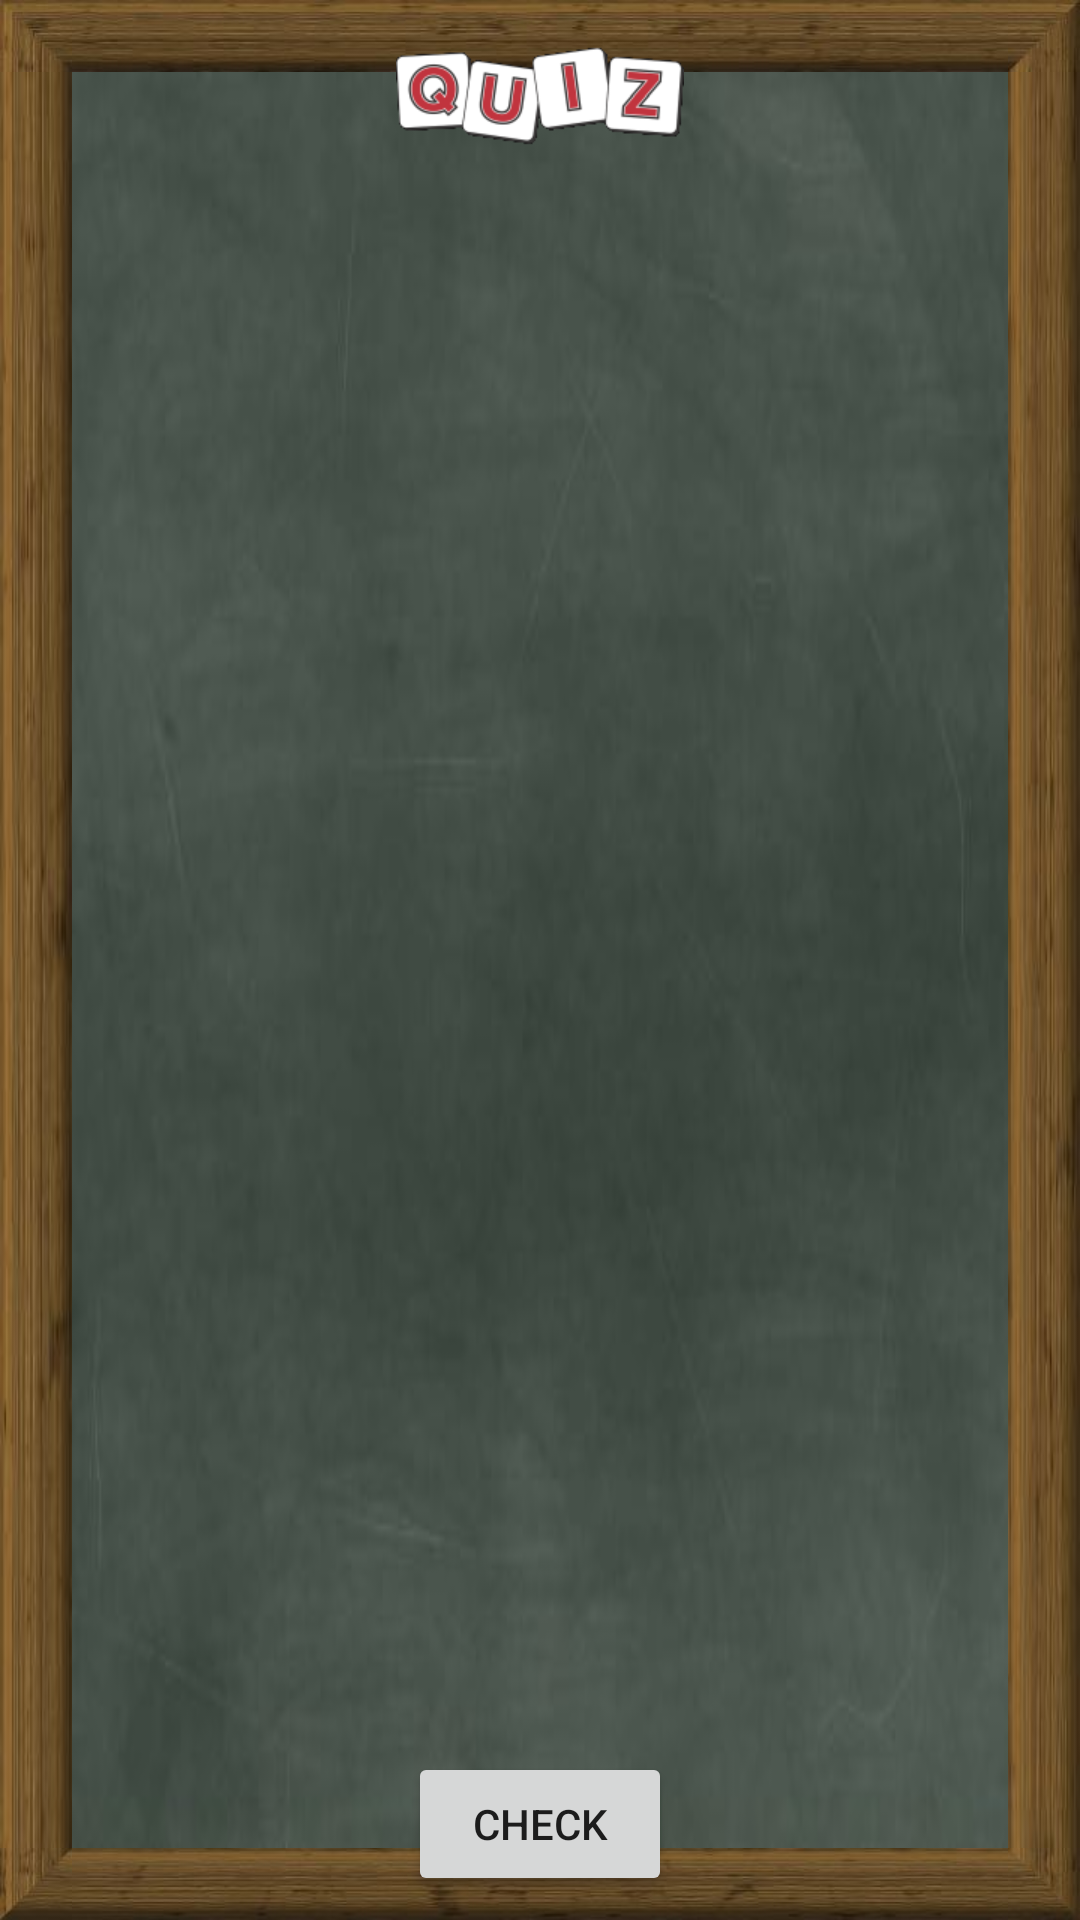

Screen size 1080 x 1920. Icon name, then its box in pixels as detection(x1, y1, x2, y2):
bottom left border: detection(0, 1848, 72, 1920)
bottom right border: detection(1008, 1848, 1080, 1920)
top left border: detection(0, 0, 72, 72)
top right border: detection(1008, 0, 1080, 72)
